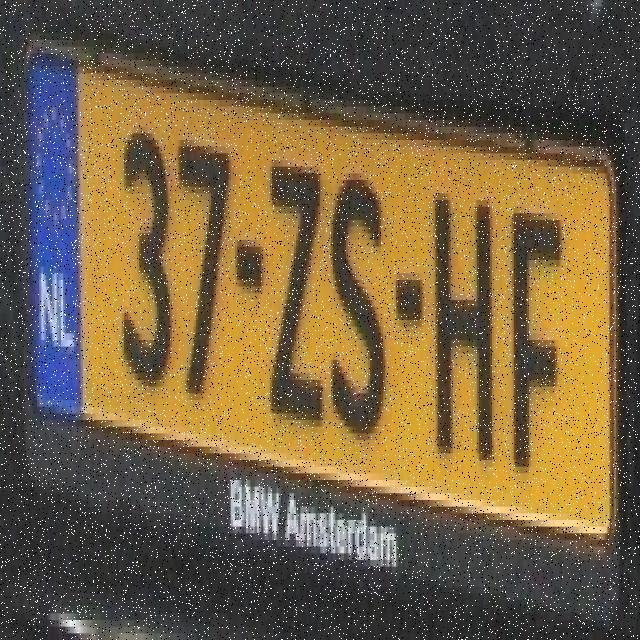LicensePlate: (22, 18, 630, 555)
